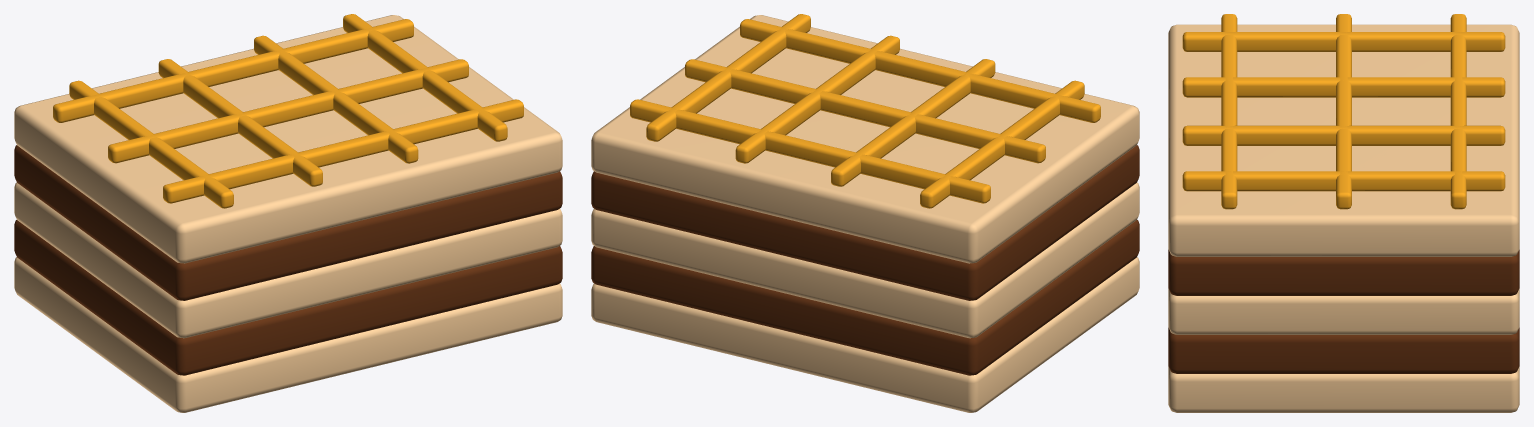
File: wafer.glb
3 renders of one model, left to right at view 1: azimuth 30°, elevation 25°; view 2: azimuth 150°, elevation 25°; view 3: azimuth 270°, elevation 25°, orthographic. The views are drawn at different scales.
Visible parts, largest first — view 1: wafer; view 2: wafer; view 3: wafer.
Part boxes in pixels (x1,y1,x2,y2): wafer: (14, 14, 562, 412); wafer: (591, 14, 1139, 412); wafer: (1168, 14, 1519, 412).
Size of the model in its own units: 1 by 0.5085 by 0.7538.
1 material, 1 textured.
